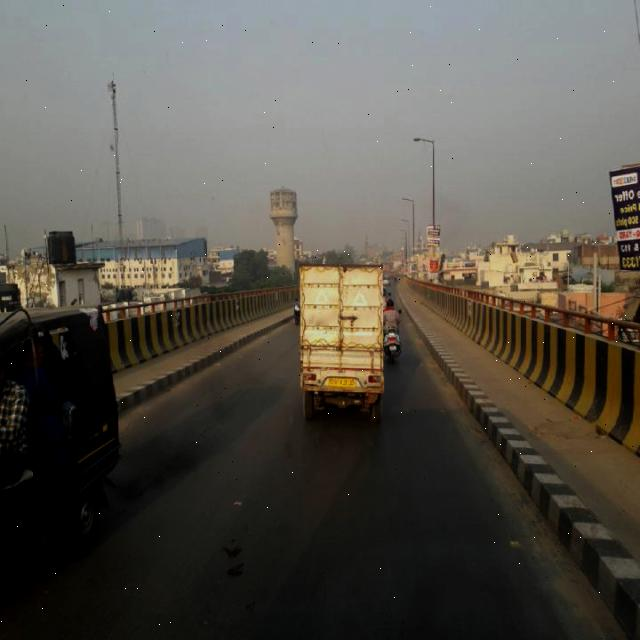D00: (128, 354, 287, 512)
